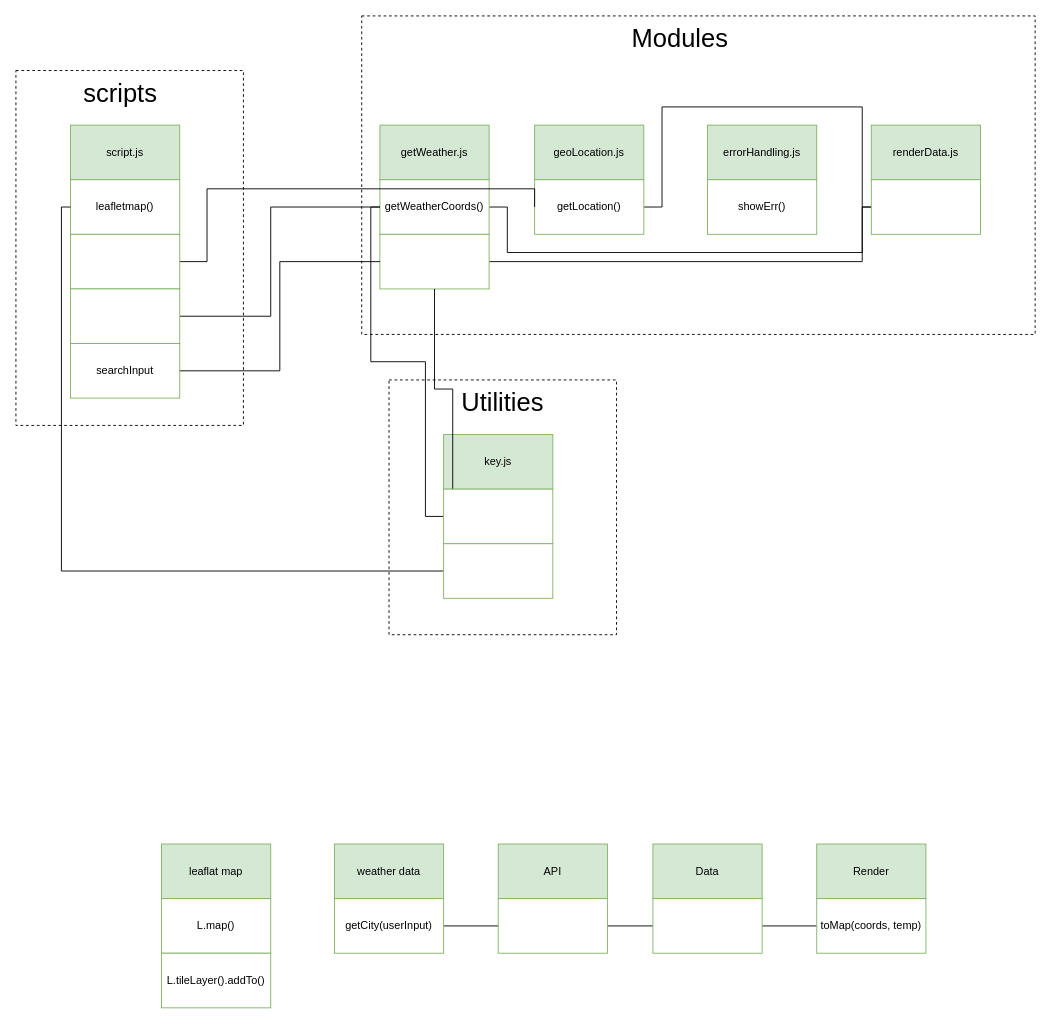
This 1051x1024 diagram has some shape labels left out. The box of each missing label's shape, as (x1, y1, x2, y2) in pixels:
clickOnMap: (70, 288, 180, 344)
fetch(openweather?q={userInput}): (497, 898, 607, 953)
getWeatherCity(): (379, 233, 489, 289)
mapboxAccessToken: (443, 543, 553, 598)
ownLocation: (70, 233, 180, 289)
return data.json(): (652, 898, 762, 953)
toMap(): (870, 179, 981, 234)
weatherAPIKey: (443, 488, 553, 544)
